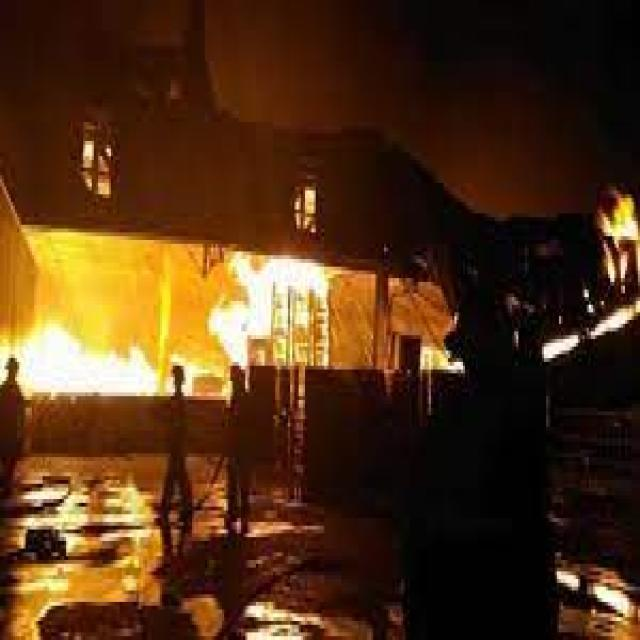Fire: (14, 322, 192, 414), (215, 264, 371, 304), (593, 190, 640, 256), (212, 316, 266, 352)
Smoke: (224, 0, 640, 189)
